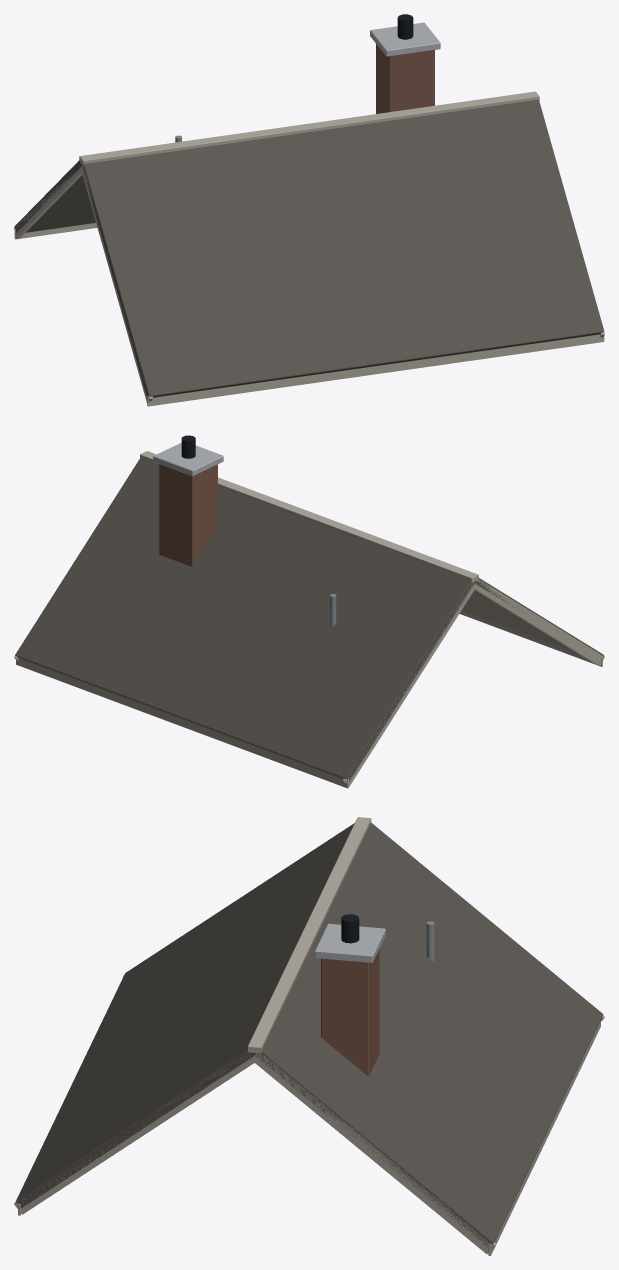
Rendered from house2_roof.glb.
3 views of the same model, one above another, from view 1: azimuth 30°, elevation 25°; view 2: azimuth 150°, elevation 25°; view 3: azimuth 270°, elevation 25° (orthographic). The views are drawn at different scales.
Visible parts, largest first — view 1: house2_roof; view 2: house2_roof; view 3: house2_roof.
Boxes of the visible parts, bbox=[...] form: house2_roof: bbox=[14, 14, 604, 406]; house2_roof: bbox=[14, 435, 604, 788]; house2_roof: bbox=[14, 817, 604, 1255].
Bounding box in the file's own units: 9.14 × 4.21 × 8.45.
